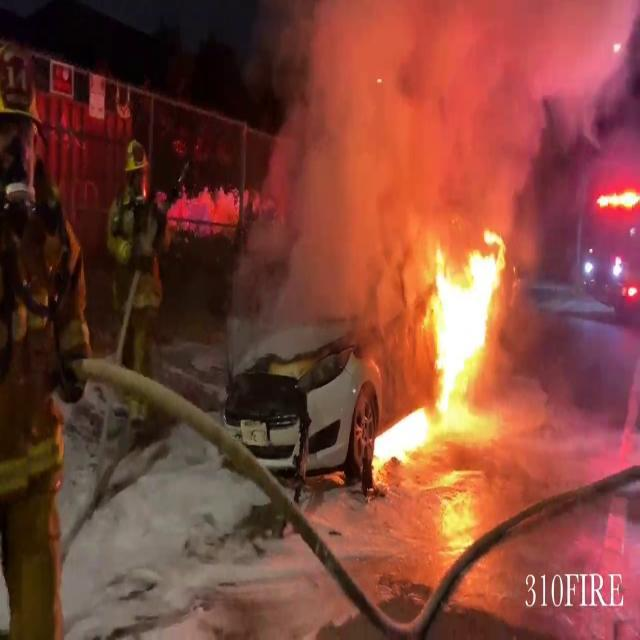Fire: (370, 230, 518, 468)
Smoke: (223, 0, 582, 274)
